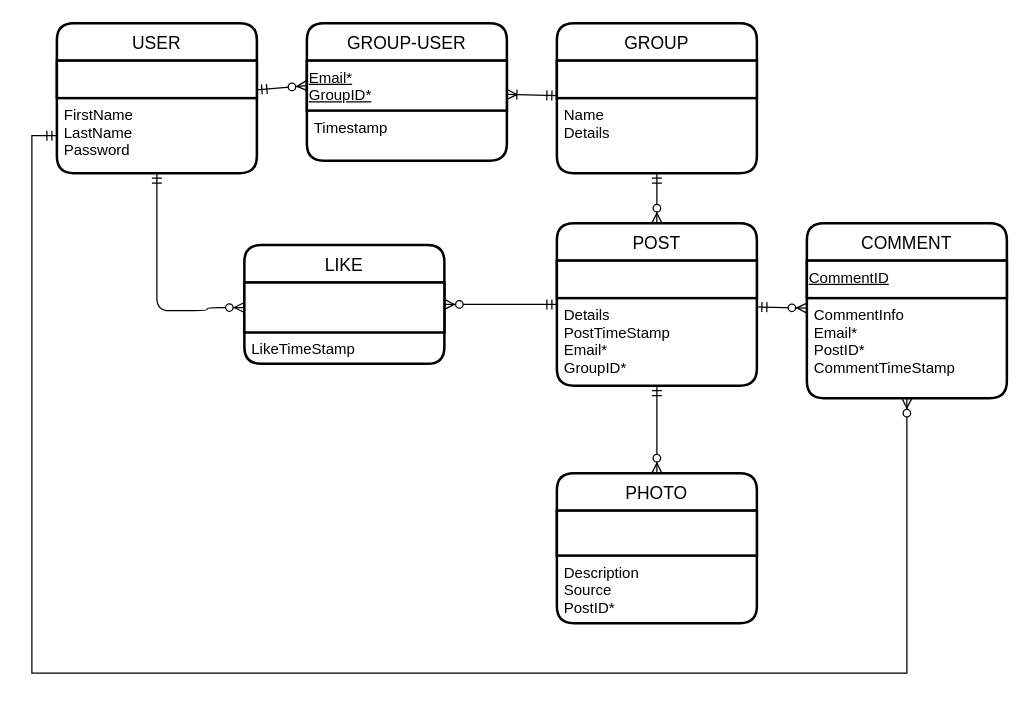
This 1030x706 diagram has some shape labels left out. The shapes that lost their labels are listed below. From the top down, each one's centre as x and y in pixels, then its label:
At point (156, 79): "Email".
At point (656, 79): "GroupID".
At point (656, 279): "PostID".
At point (343, 307): "Email* PostID*".
At point (656, 532): "PhotoID".
